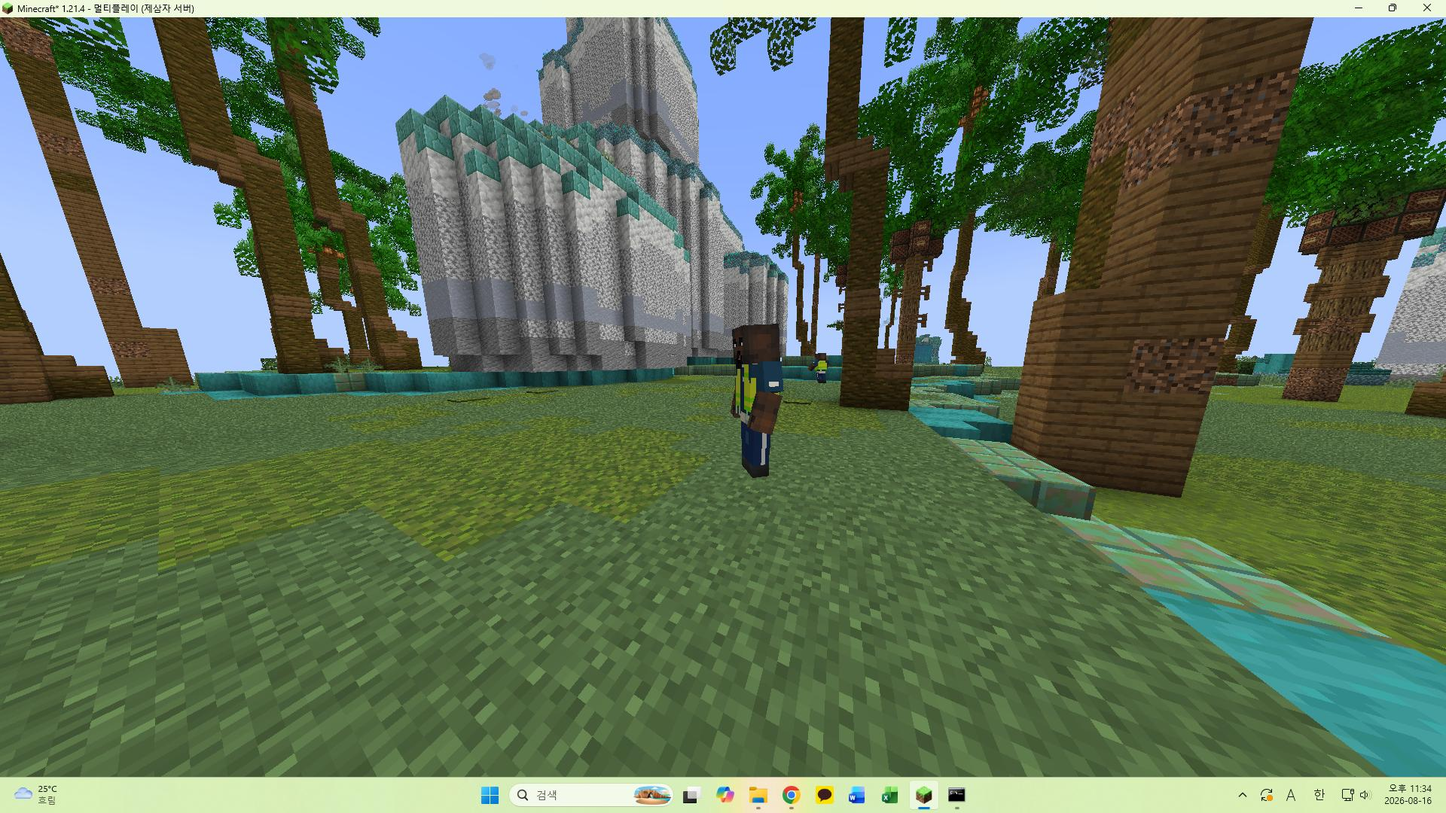Guardian: (730, 324, 783, 477)
